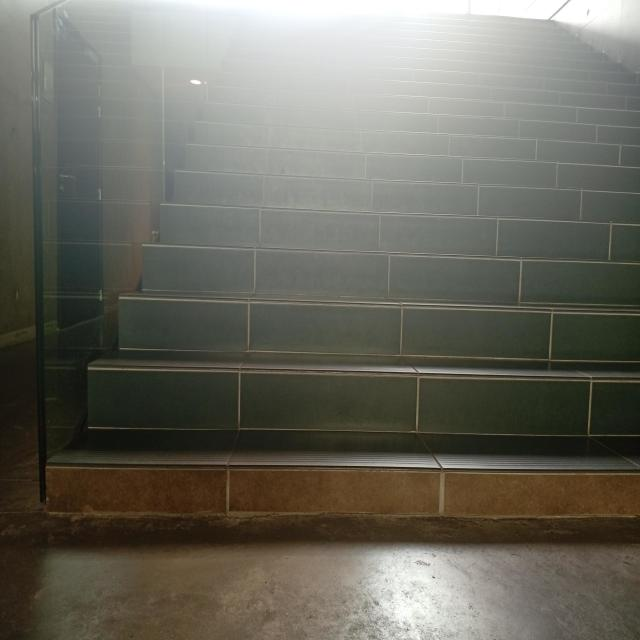Stairs: (24, 158, 604, 581)
